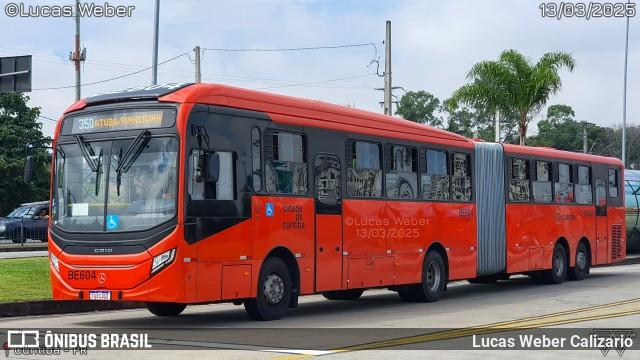ATUBA PINHEIRINHO: (91, 111, 169, 132)
